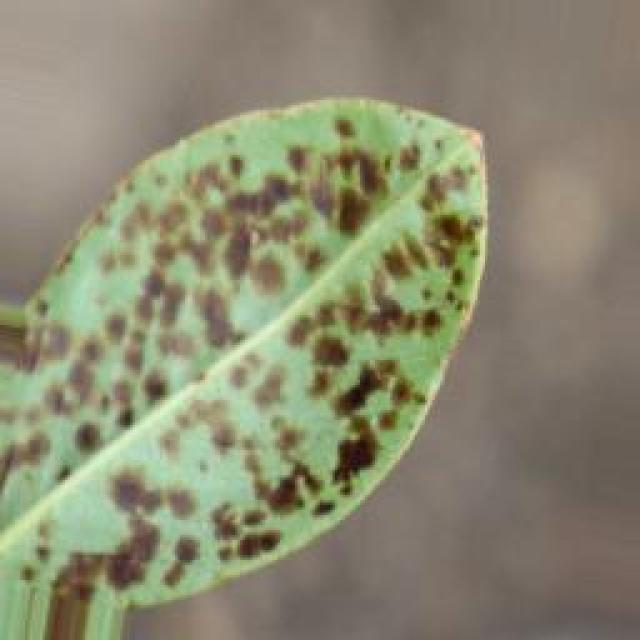Whitefly: (0, 100, 489, 640)
